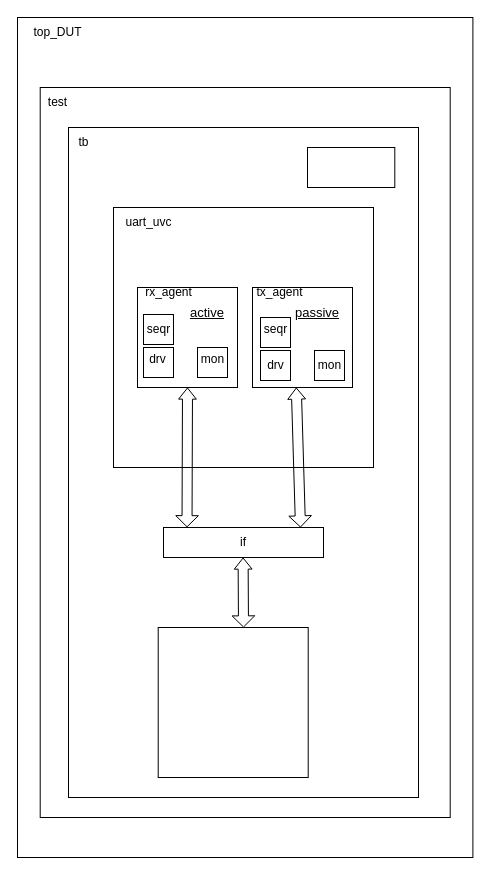
Some shapes in this 491 by 875 pixel diagram are drawn without their labels. Each missing label, with the centre of its shape:
DUT: point (232, 702)
scb: point (350, 167)
